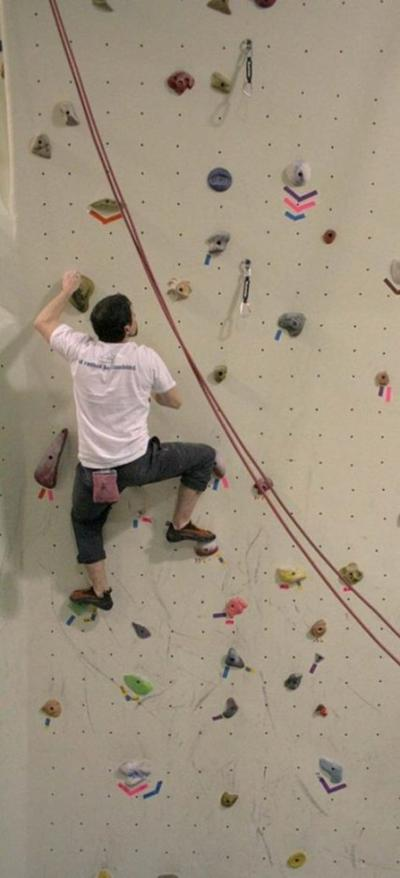person: (35, 269, 218, 615)
